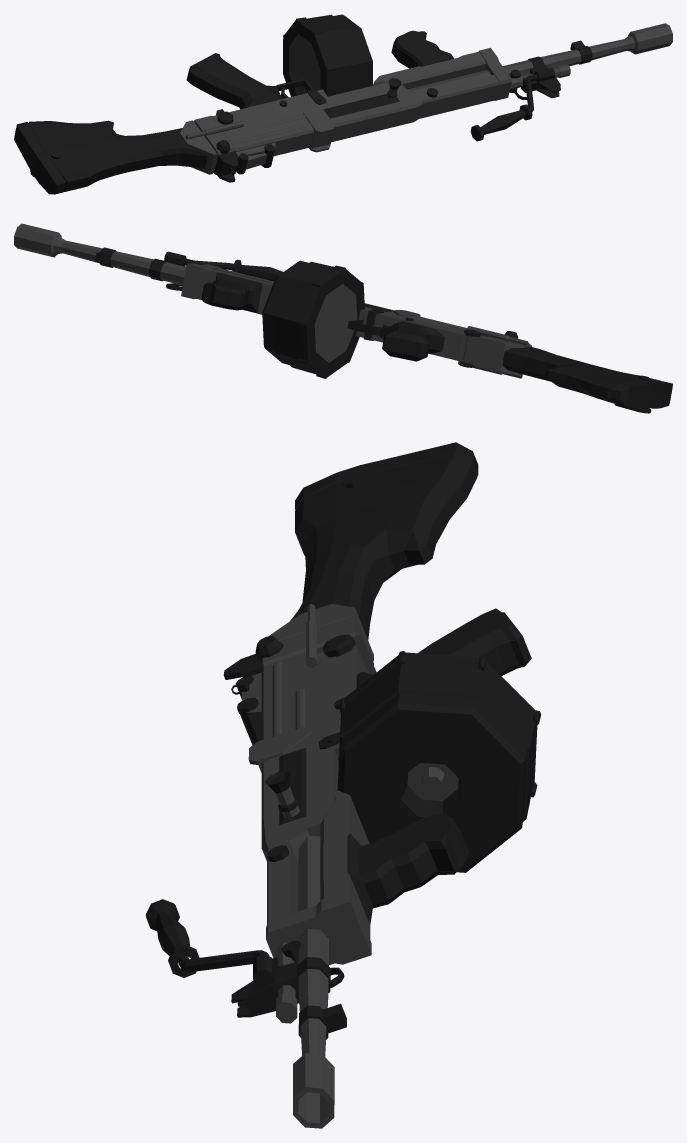
The model's file is Ultimax_3D.glb.
3 renders of one model, top to bottom at view 1: azimuth 30°, elevation 25°; view 2: azimuth 150°, elevation 25°; view 3: azimuth 270°, elevation 25°, orthographic. The views are drawn at different scales.
Visible parts, largest first — view 1: ultimax (1); view 2: ultimax (1); view 3: ultimax (1).
Boxes of the visible parts, <box> form: ultimax (1): <box>14,14,672,194</box>; ultimax (1): <box>14,223,672,413</box>; ultimax (1): <box>145,442,541,1128</box>.
Size of the model in its own units: 1.13 by 0.1615 by 0.3121.
1 material, 1 textured.
